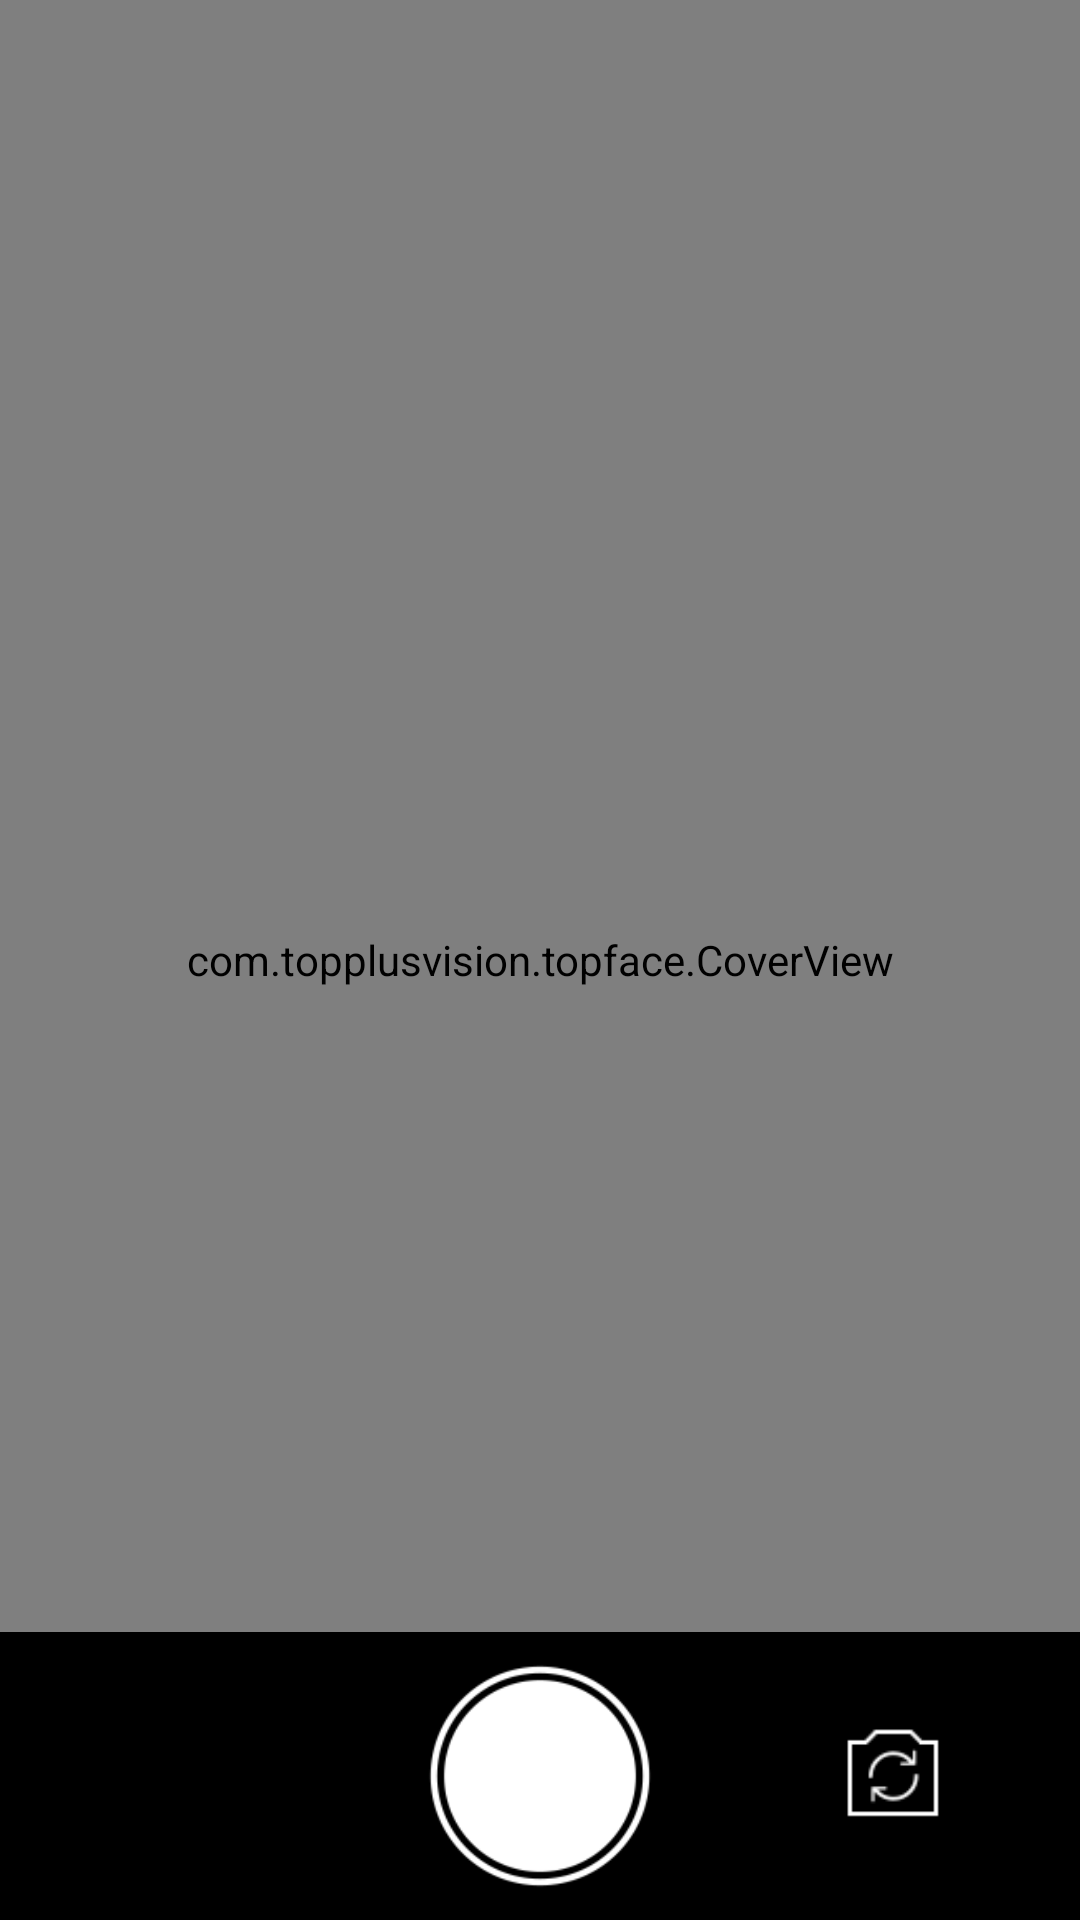

Point at icon controls on the screen. Image size 1080w x 1920h, points as (x=x, y=y).
camera back: (x=893, y=1773)
camera shutter: (x=540, y=1776)
